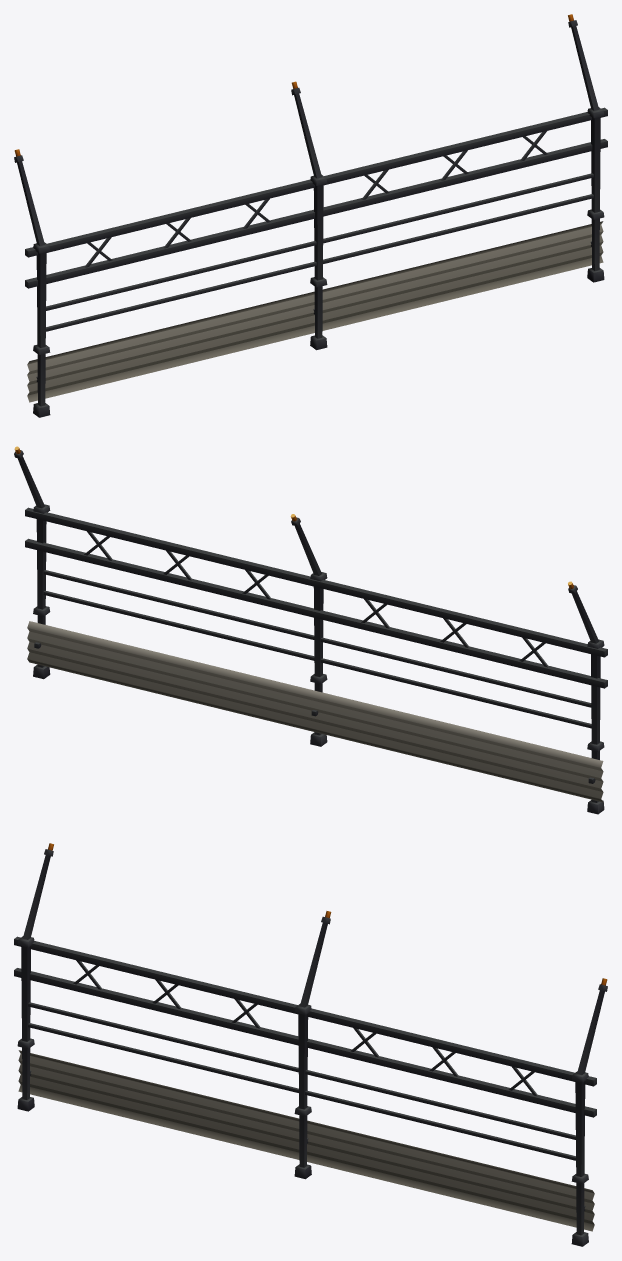
File: Fence_1A.fbx
3 views of the same model, one above another, from view 1: azimuth 30°, elevation 25°; view 2: azimuth 150°, elevation 25°; view 3: azimuth 330°, elevation 25° (orthographic).
Parts seen in each view (by area): view 1: Fence_1A; view 2: Fence_1A; view 3: Fence_1A.
Part boxes in pixels (x1,y1,x2,y2): Fence_1A: (14, 14, 607, 417); Fence_1A: (14, 446, 607, 814); Fence_1A: (14, 843, 607, 1246).
Size of the model in its own units: 29.29 by 11.93 by 2.58.
